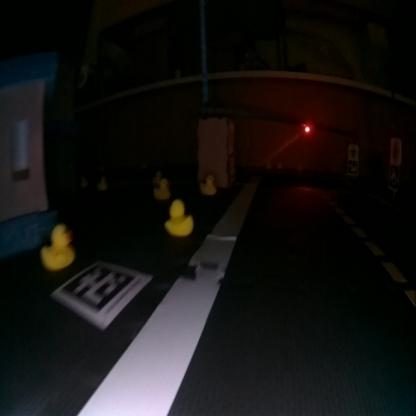Duckie: (44, 224, 74, 268), (165, 200, 193, 235), (200, 175, 216, 194), (154, 180, 168, 199), (96, 176, 106, 190), (153, 170, 162, 184), (80, 176, 86, 186), (276, 161, 282, 169), (266, 161, 271, 169), (297, 163, 302, 170)
Intersection sign: (390, 140, 400, 161), (348, 144, 358, 158)
QR code: (52, 261, 148, 324), (388, 166, 398, 188), (348, 160, 357, 174)
Traffic light: (302, 122, 308, 131)
